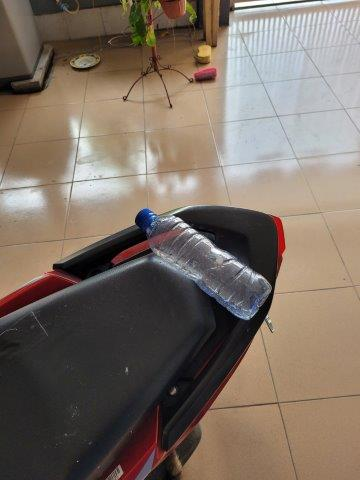botolplastik: (134, 208, 272, 321)
